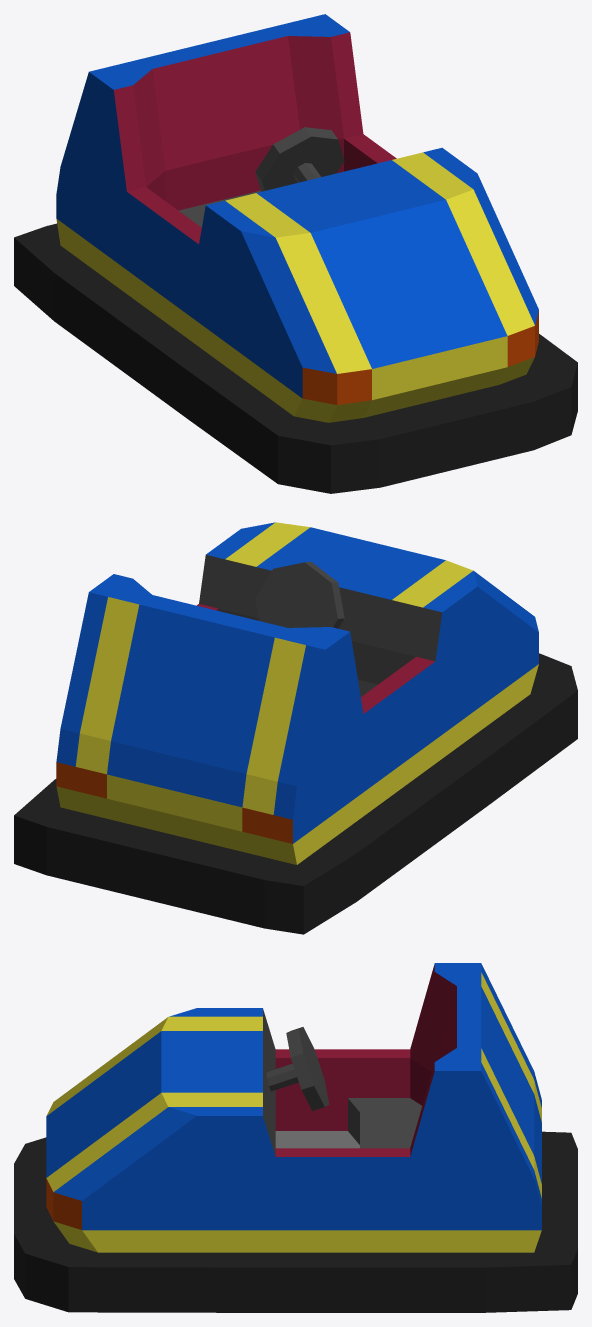
Rendered from BumperCar03.fbx.
3 renders of one model, top to bottom at view 1: azimuth 30°, elevation 25°; view 2: azimuth 150°, elevation 25°; view 3: azimuth 270°, elevation 25°, orthographic. The views are drawn at different scales.
Visible parts, largest first — view 1: BumperCar03; view 2: BumperCar03; view 3: BumperCar03.
Boxes of the visible parts, x1=… form: BumperCar03: x1=14, y1=14, x2=577, y2=493; BumperCar03: x1=14, y1=522, x2=577, y2=934; BumperCar03: x1=14, y1=963, x2=577, y2=1312.
Bounding box in the file's own units: 132 × 101 × 228.
